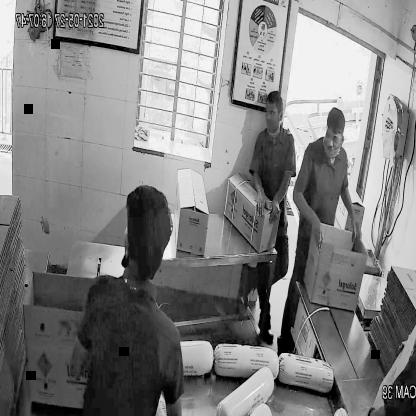no_goggles: (320, 124, 347, 149)
